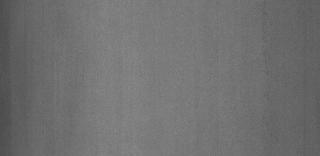silk spot: (255, 0, 278, 102)
